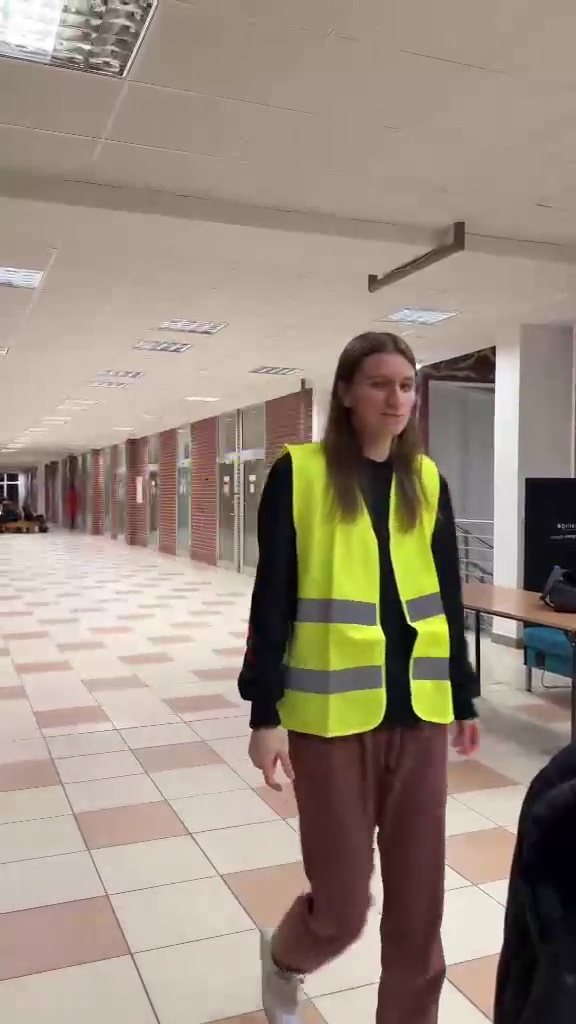vest: (246, 330, 473, 989)
